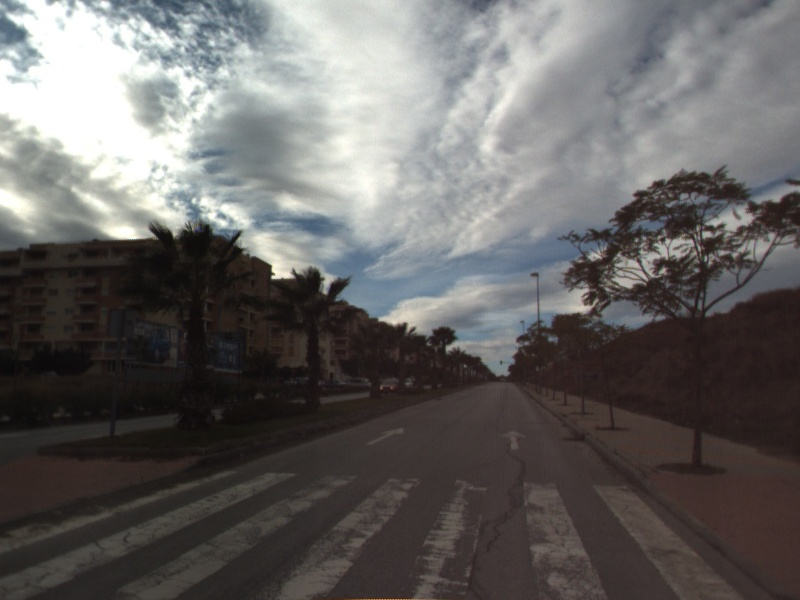STRAIGHT: (364, 424, 406, 446), (498, 428, 529, 452)
